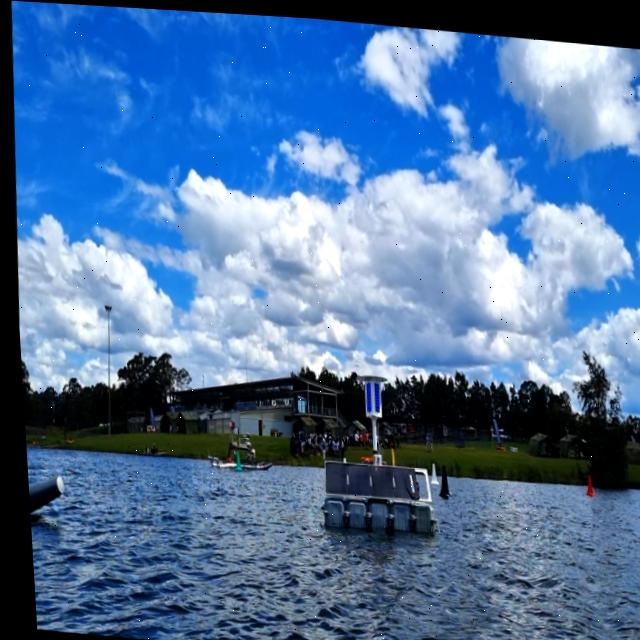led: (367, 375, 376, 410), (359, 377, 368, 409)
